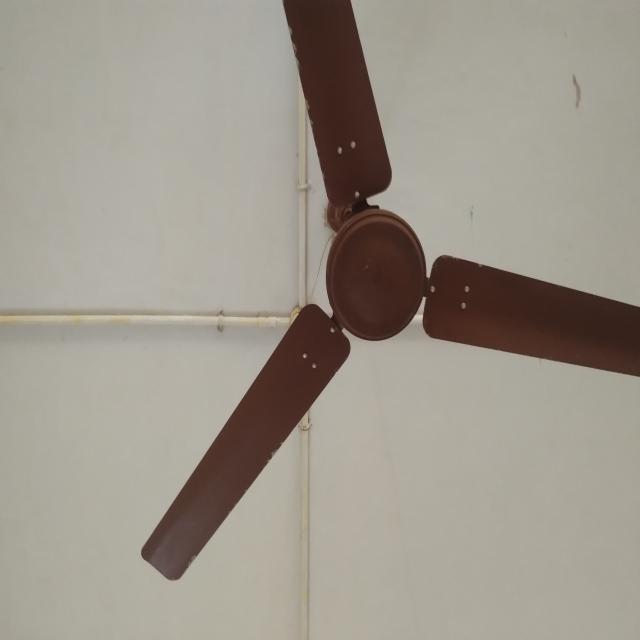fan_off: (140, 0, 640, 581)
